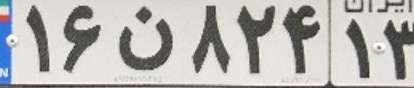character: (115, 3, 177, 79), (57, 2, 106, 79), (234, 3, 280, 77), (280, 3, 326, 77), (189, 2, 234, 77), (21, 2, 56, 78), (339, 15, 376, 82), (381, 17, 414, 82)
